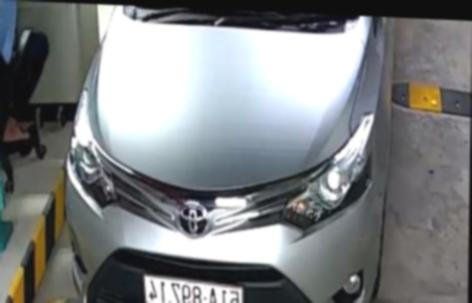License_Plate: (134, 272, 249, 303)
